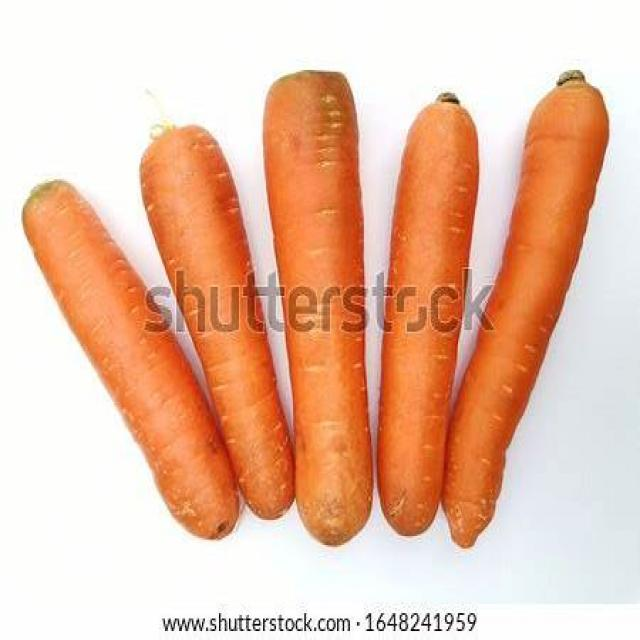Carrot: (13, 173, 240, 539), (450, 68, 608, 552), (137, 118, 293, 514), (250, 68, 376, 535), (375, 87, 482, 541)
